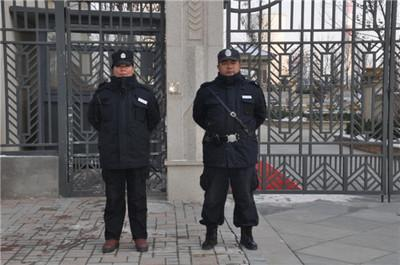up: (80, 49, 161, 255), (187, 47, 268, 251)
